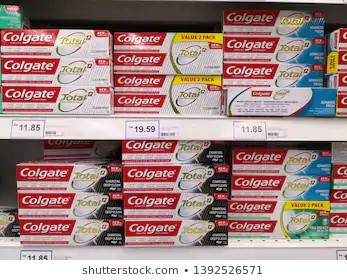colgate-family: (112, 75, 221, 116), (113, 35, 221, 74), (224, 202, 329, 242)
colgate-medium: (1, 86, 117, 117), (1, 57, 116, 86), (18, 162, 123, 193), (17, 217, 124, 245), (121, 191, 228, 219), (1, 29, 116, 55), (121, 164, 229, 191), (221, 7, 328, 34), (17, 192, 123, 217), (124, 219, 229, 244), (229, 174, 329, 199), (223, 61, 327, 85), (121, 143, 229, 164), (230, 150, 332, 172), (225, 39, 325, 61)
